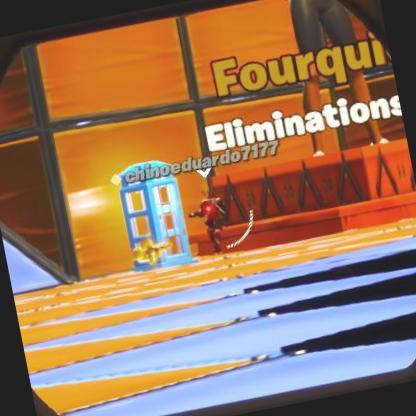person: (200, 186, 235, 244)
